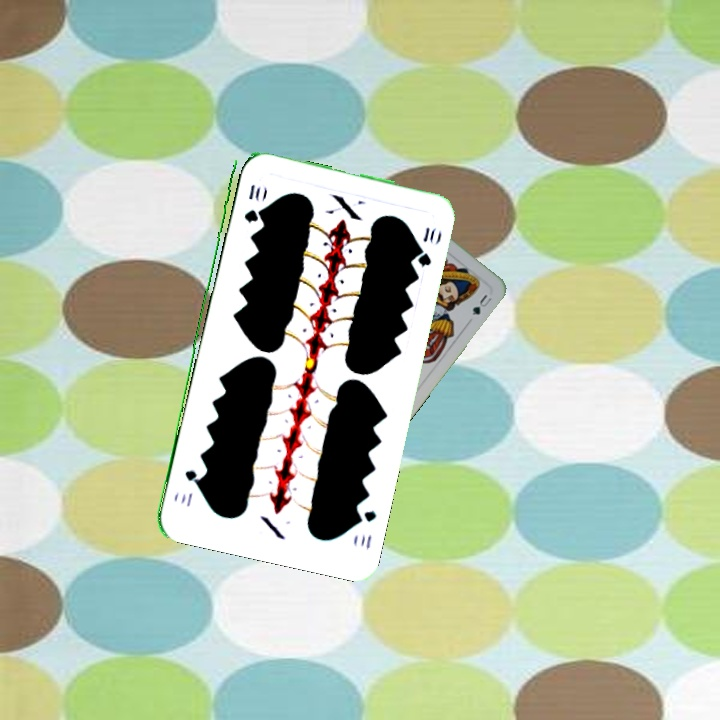G10: (351, 505, 379, 552), (240, 180, 263, 225)
